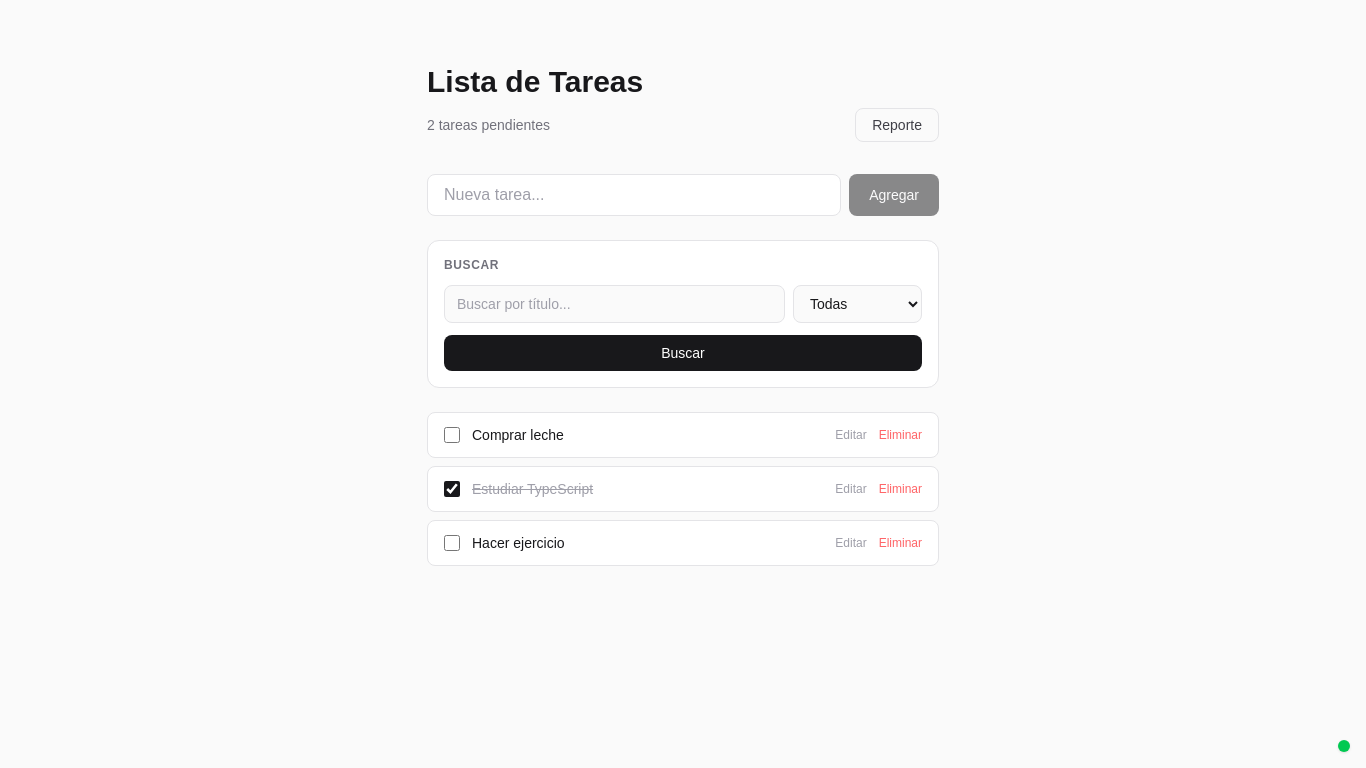
ListaTareas — búsqueda › cierra el modal al hacer clic en Cerrar
expect the text "Comprar leche" is shown: met, box [472, 427, 564, 443]
In the field labelled "Buscar por título": (614, 304) [444, 285, 785, 323], type "nada"
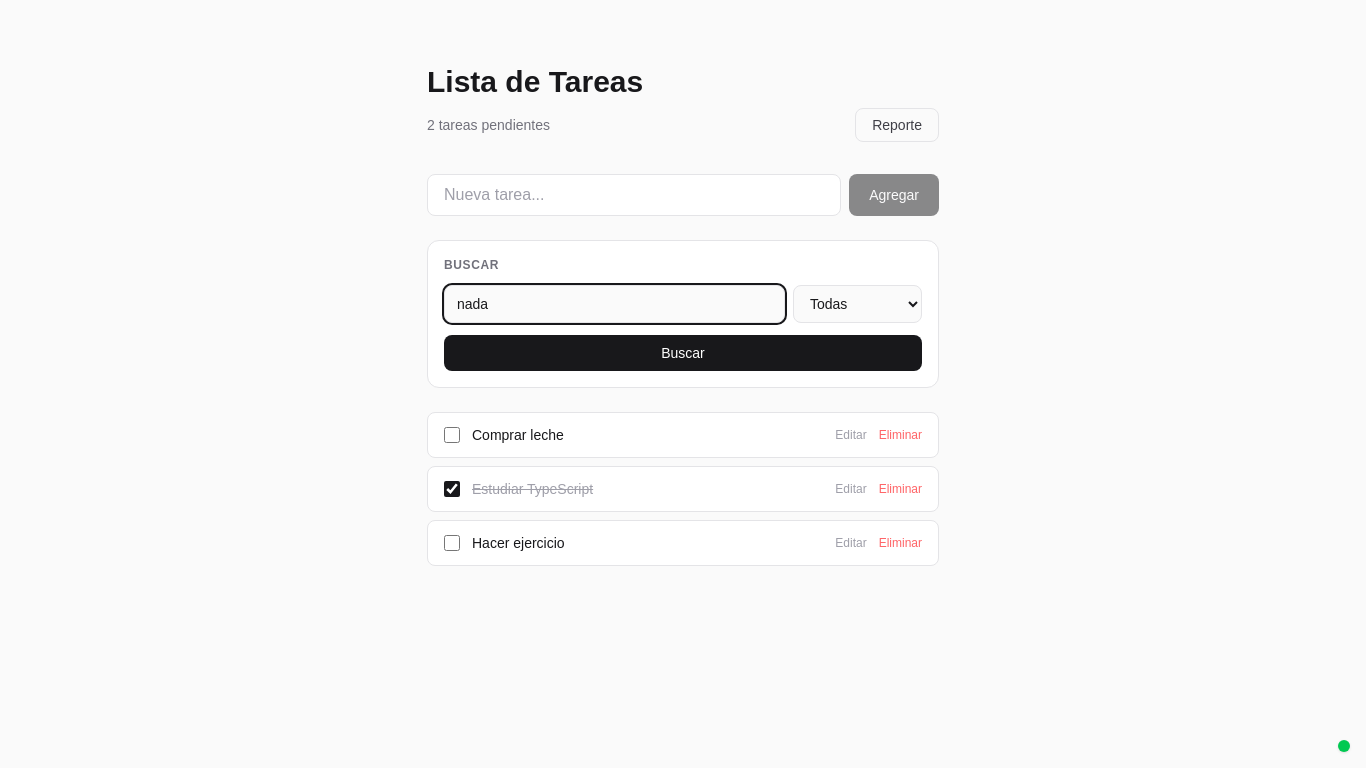
Click the button "Buscar": (683, 353) [444, 335, 922, 371]
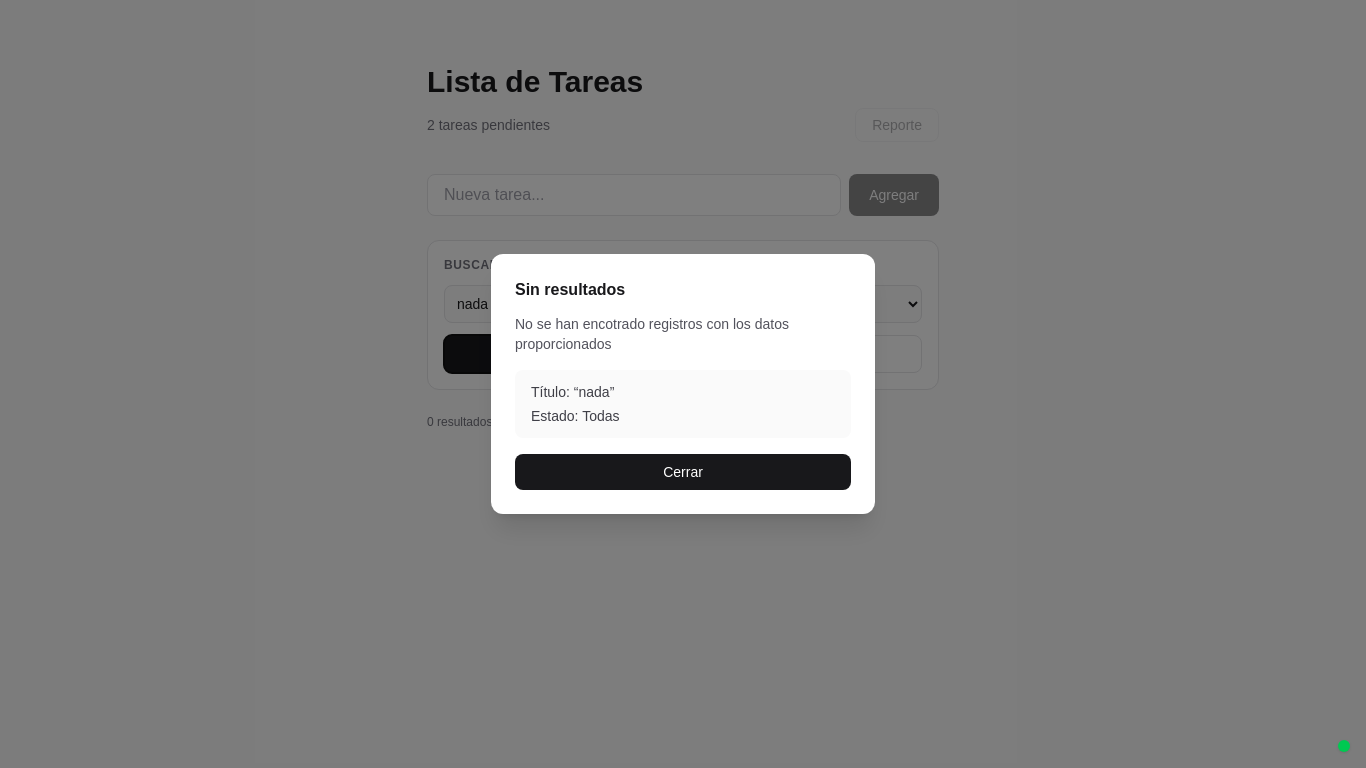
expect the dialog is shown: met
Click the button "Cerrar": (683, 472) [515, 454, 851, 490]
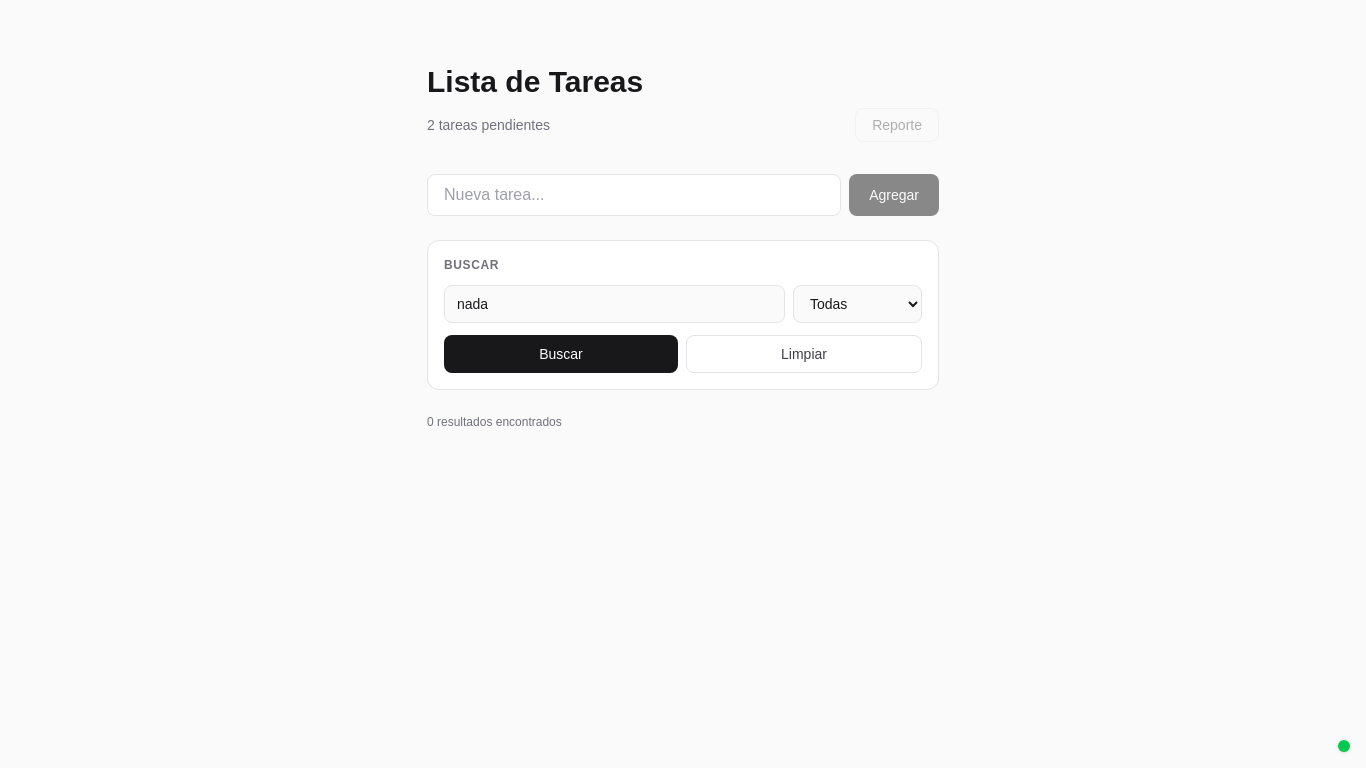
expect the dialog is gone: met
